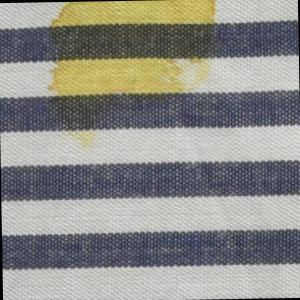Oil Stain: (42, 1, 225, 158)
